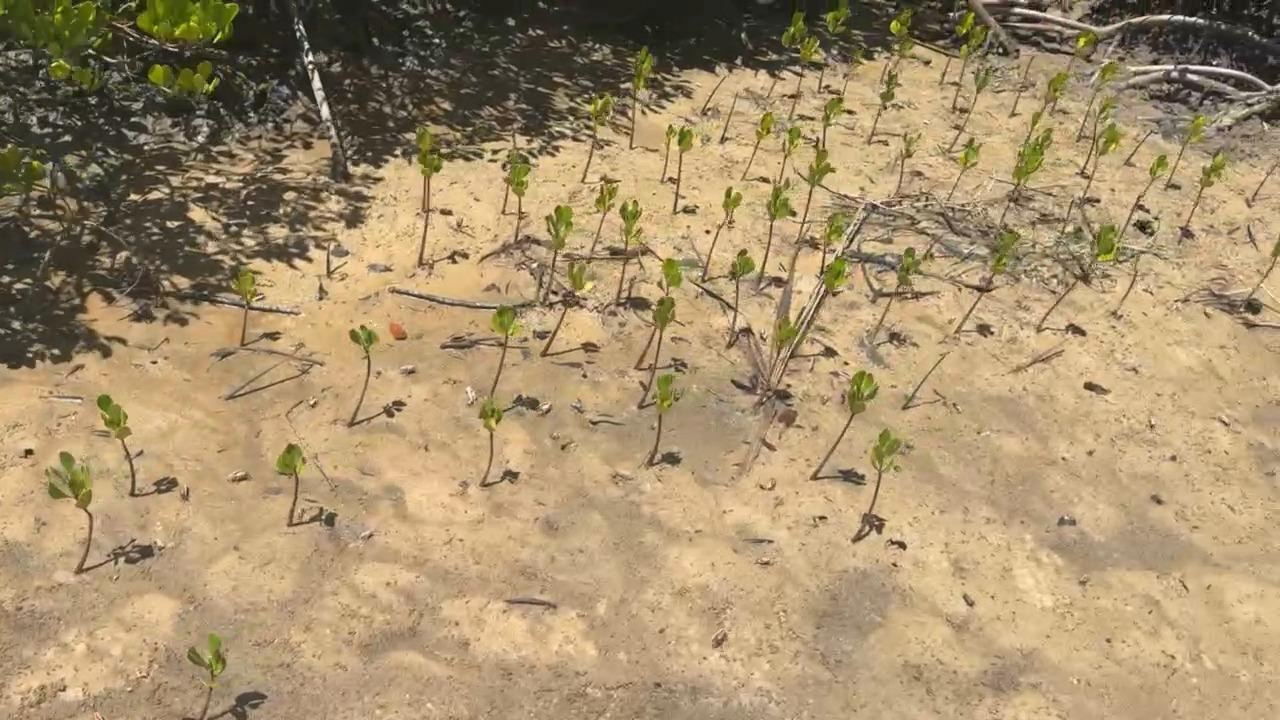Tree: (1036, 223, 1118, 330), (810, 369, 880, 479), (954, 233, 1018, 333), (43, 451, 95, 574), (788, 258, 847, 353), (632, 258, 681, 370), (851, 427, 900, 538), (1000, 128, 1053, 224), (755, 176, 798, 290), (1177, 150, 1226, 246), (539, 261, 586, 358), (637, 296, 676, 410), (792, 148, 837, 241), (1050, 30, 1097, 117), (96, 394, 136, 495), (700, 186, 742, 280), (877, 247, 922, 328), (756, 317, 798, 403), (766, 10, 807, 98), (946, 67, 988, 151), (1123, 155, 1169, 231), (1080, 122, 1121, 207), (540, 204, 573, 306), (188, 633, 226, 720), (1164, 116, 1208, 190), (1023, 71, 1068, 142), (1079, 62, 1119, 141), (951, 25, 986, 113), (818, 6, 852, 94), (579, 94, 612, 184), (644, 374, 675, 468), (347, 324, 375, 428), (726, 249, 755, 349), (615, 199, 643, 302), (938, 10, 976, 85), (787, 35, 820, 121), (275, 442, 308, 527), (1078, 96, 1114, 173), (628, 44, 653, 150), (865, 70, 900, 144), (878, 9, 913, 82), (490, 304, 517, 397), (901, 353, 944, 409), (946, 138, 981, 201), (478, 400, 503, 486), (741, 112, 774, 177), (230, 270, 257, 349), (504, 162, 531, 241), (590, 182, 619, 251), (672, 125, 694, 212), (818, 213, 844, 276), (1009, 55, 1035, 116), (416, 127, 434, 210), (896, 132, 923, 187), (777, 126, 801, 183), (417, 153, 442, 207), (501, 156, 523, 213), (820, 95, 843, 148), (718, 92, 738, 143), (1123, 131, 1154, 163), (1251, 162, 1277, 200), (660, 123, 677, 181), (700, 76, 726, 112), (842, 48, 861, 96), (891, 41, 915, 76), (1261, 238, 1280, 276), (1121, 270, 1138, 302), (326, 241, 332, 278)
